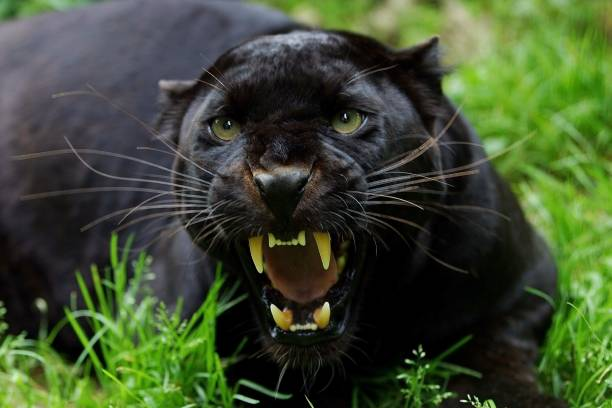panther: (123, 28, 480, 366)
